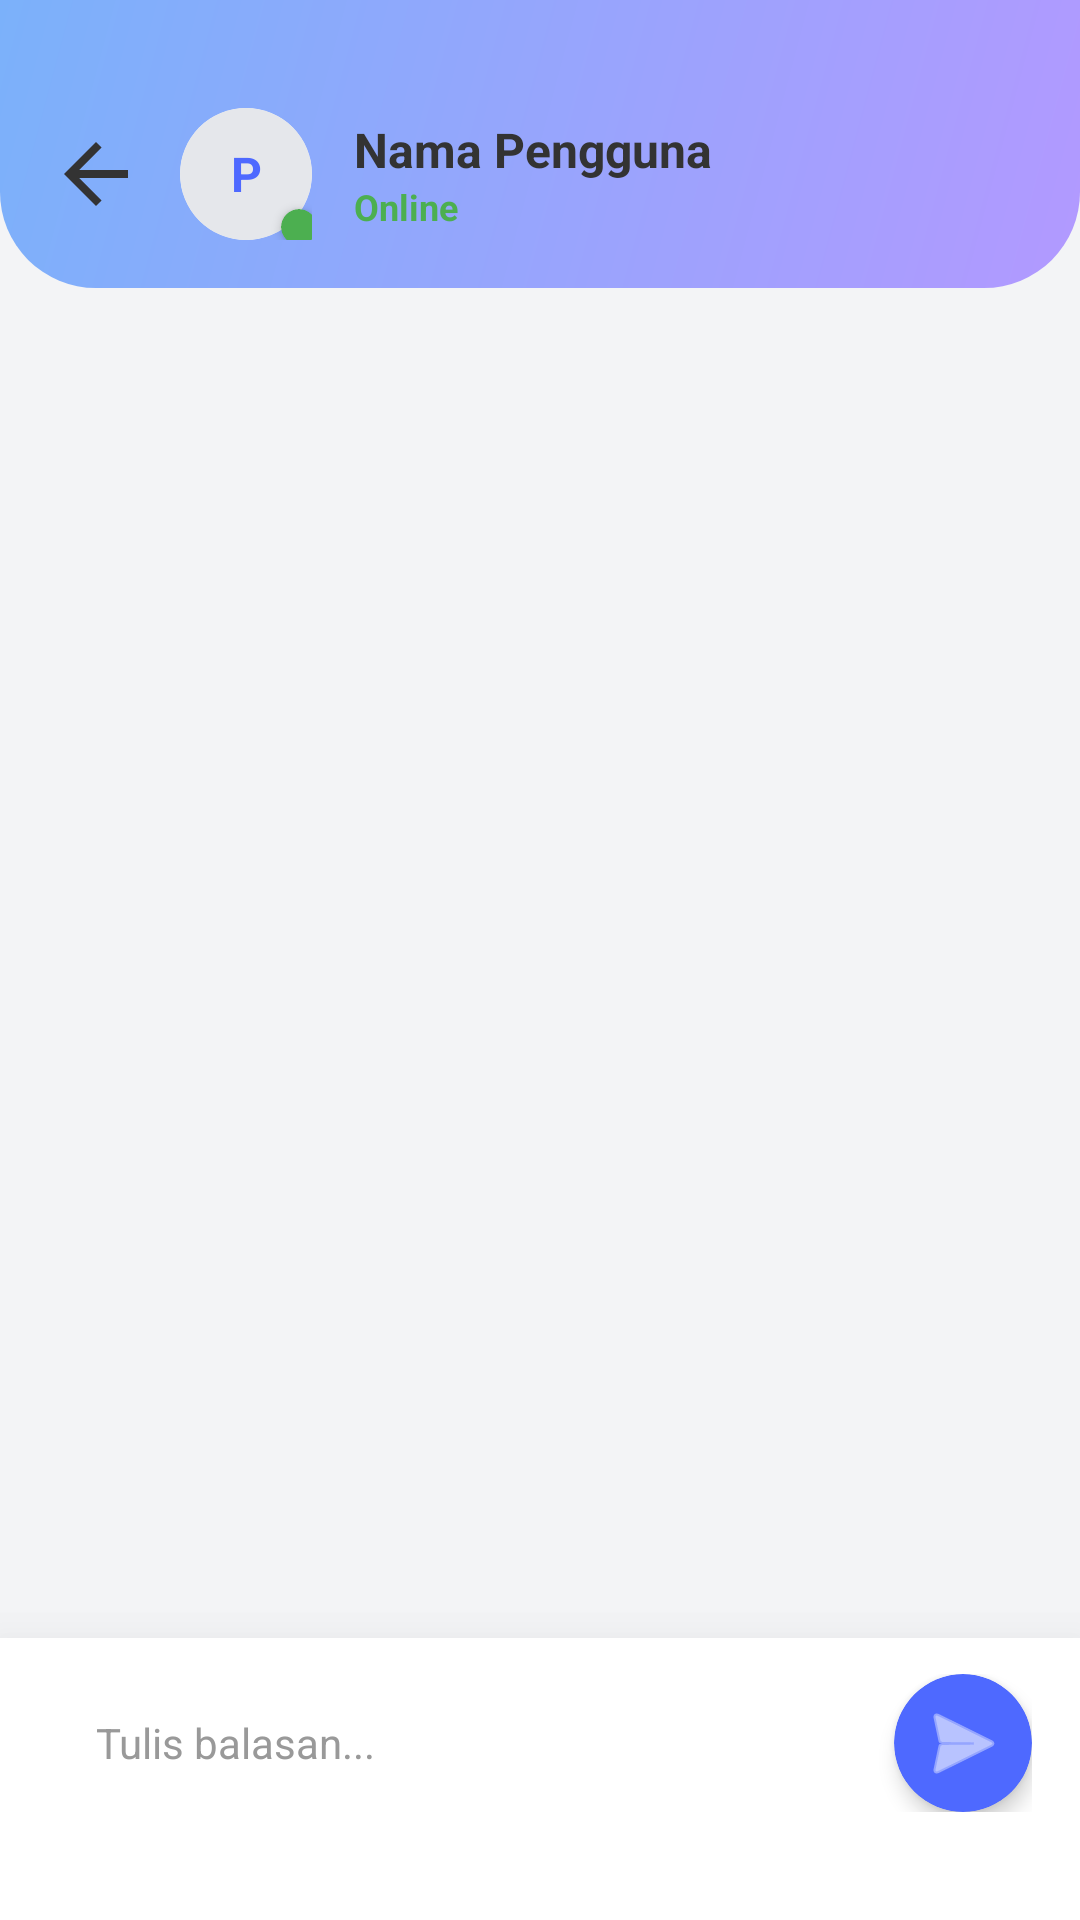

Screen size 1080x1920. Icon name, then its box in pixels as (x1, y1, x2, y2):
send: (894, 1674, 1032, 1812)
